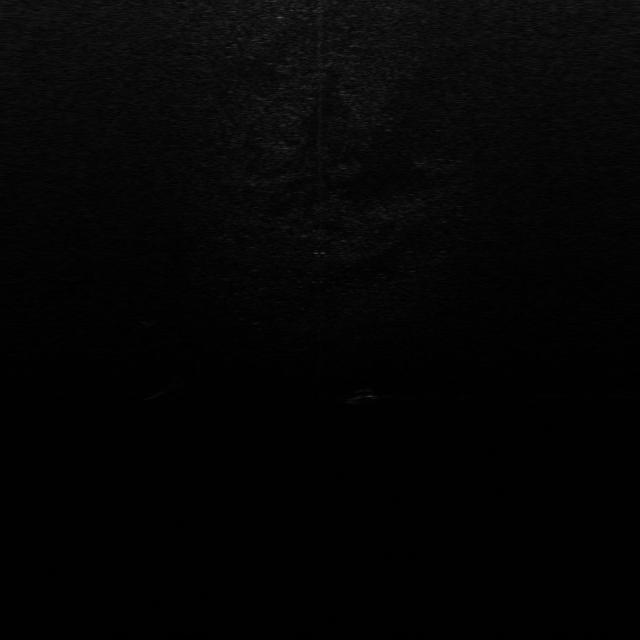ball: (164, 373, 190, 392)
circle cage: (137, 308, 163, 326)
tyre: (343, 389, 379, 405)
